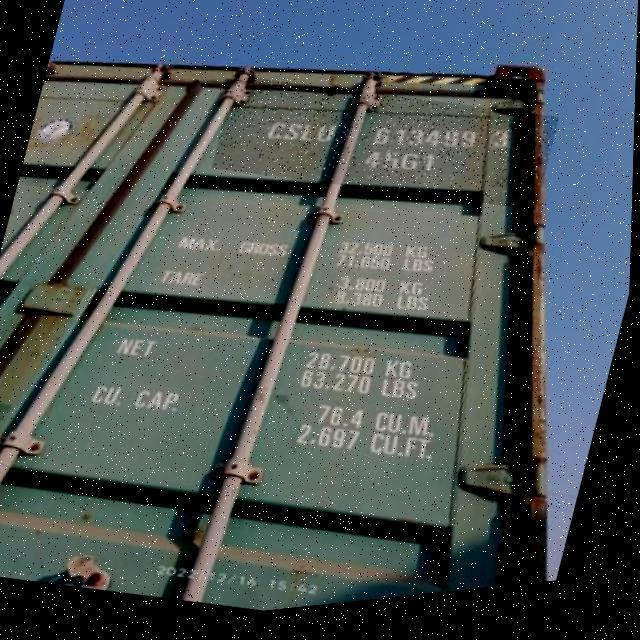container_number_h: (210, 54, 561, 248)
